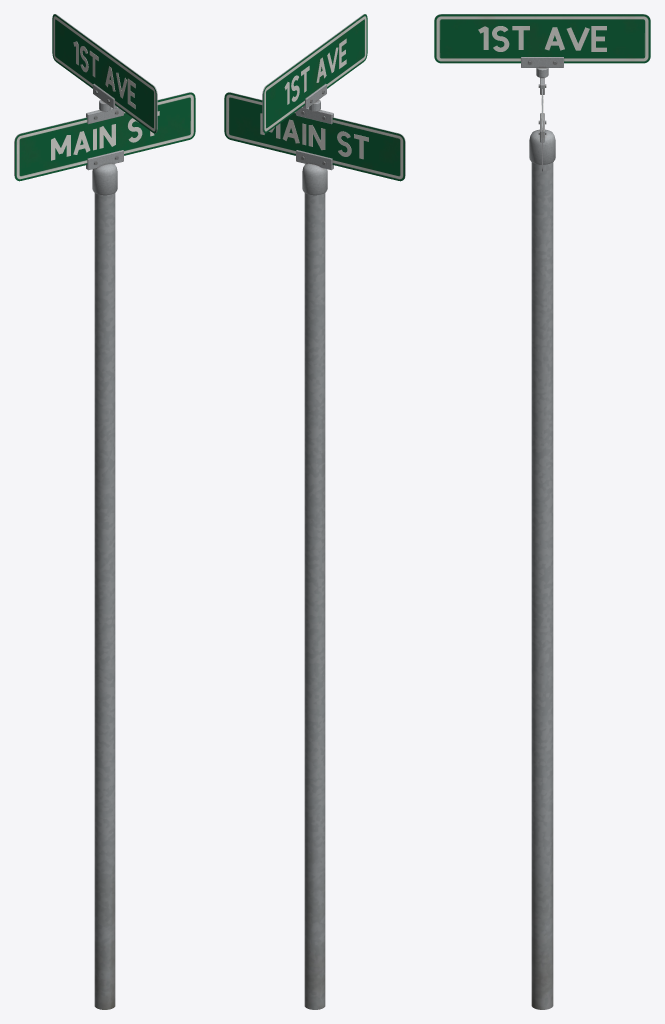
The model's file is street-name-sign.glb.
The picture shows the model from 3 angles, left to right: view 1: azimuth 30°, elevation 25°; view 2: azimuth 150°, elevation 25°; view 3: azimuth 270°, elevation 25°; orthographic projection. The views are drawn at different scales.
Visible parts, largest first — view 1: street-name-sign_body; view 2: street-name-sign_body; view 3: street-name-sign_body.
Part boxes in pixels (left/top/right/bottom): street-name-sign_body: left=14, top=14, right=195, bottom=1009; street-name-sign_body: left=224, top=14, right=405, bottom=1009; street-name-sign_body: left=434, top=14, right=650, bottom=1009.
Bounding box in the file's own units: 0.6 × 3.04 × 0.6.
1 material, 1 textured.
